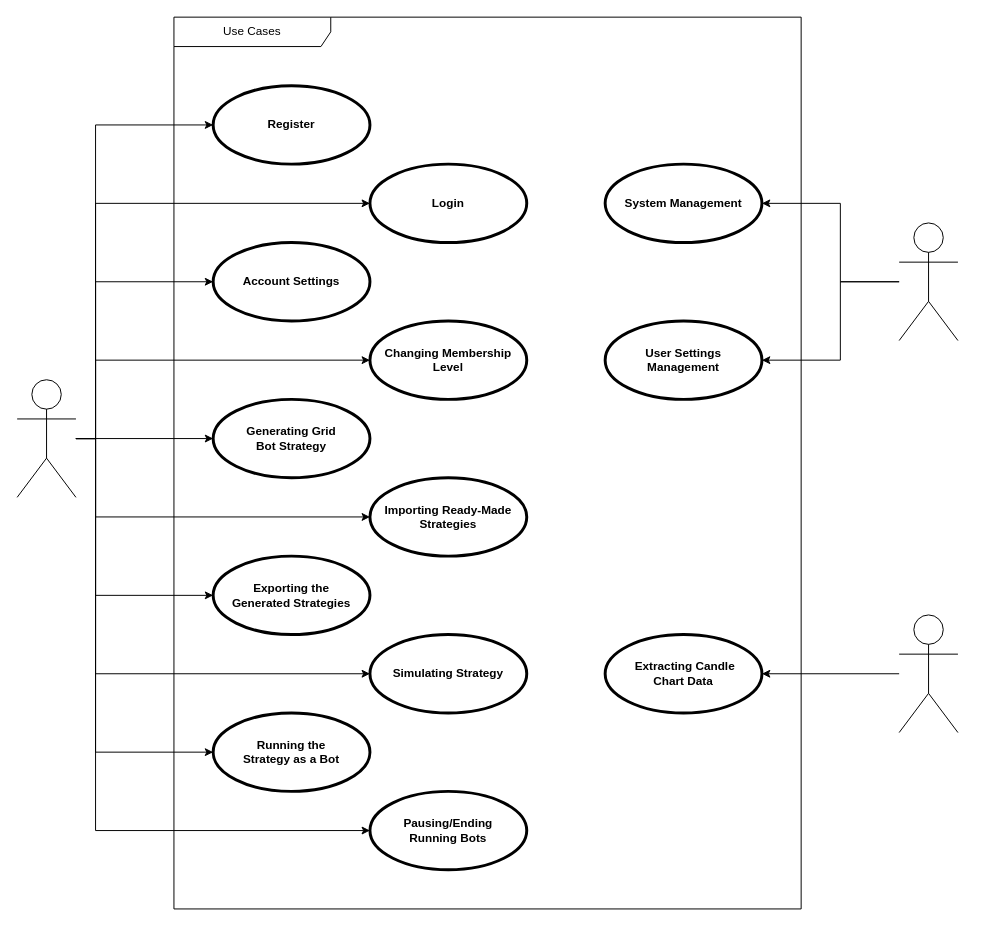
The diagram is 1004 pixels wide and 926 high, and some of its shapes have lost their labels. The shapes that lost their labels are listed below. From the top down, each one's centre as x and y in pixels, then its label:
At point 928,281: "System Administrator".
At point 46,438: "User".
At point 928,673: "Time".
